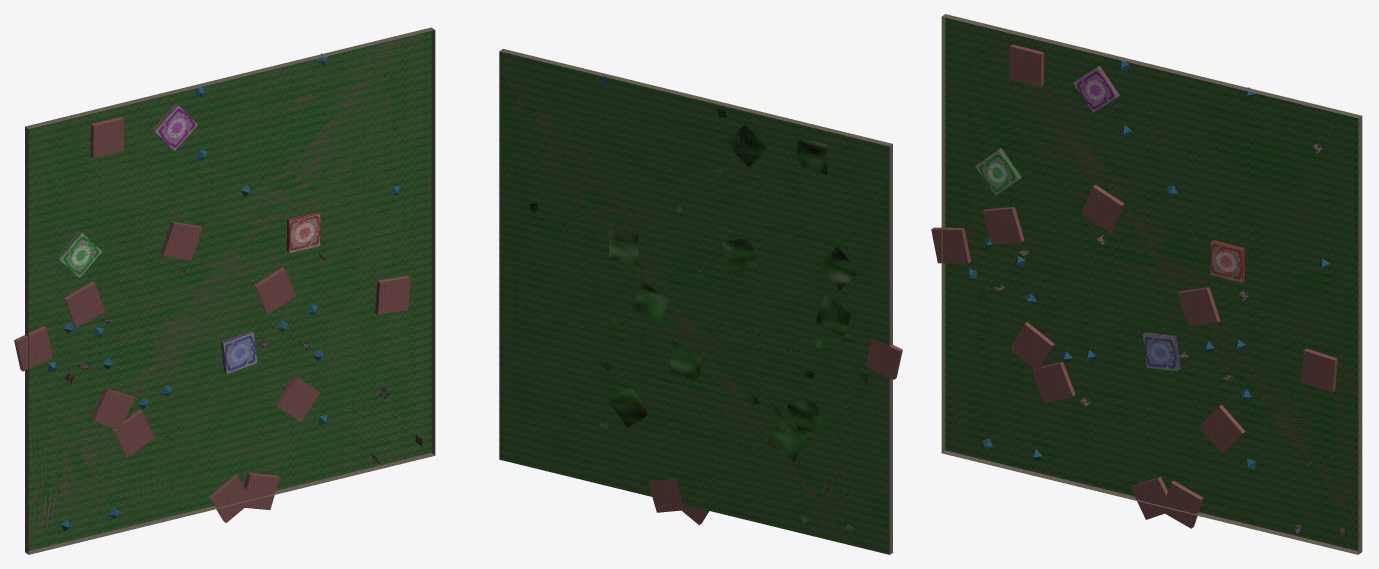
The model's file is bzworld.dae.
3 views of the same model, side by side, from view 1: azimuth 30°, elevation 25°; view 2: azimuth 150°, elevation 25°; view 3: azimuth 330°, elevation 25° (orthographic). The views are drawn at different scales.
Parts seen in each view (by area): view 1: Component (×19); view 2: Component (×17); view 3: Component (×19).
Part boxes in pixels (x1,y1,x2,y2): Component (×19): (14,27,435,554); Component (×17): (499,49,900,554); Component (×19): (931,14,1362,554).
Bounding box in the file's own units: 33890 × 2338 × 34368.
15 materials, 15 textured.
